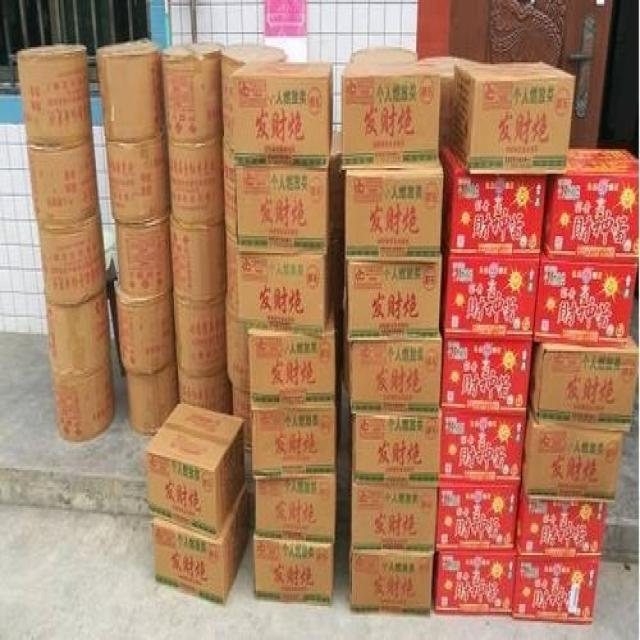box: (449, 60, 576, 176), (146, 402, 246, 540), (439, 143, 548, 259), (151, 487, 251, 606), (527, 328, 639, 434), (543, 149, 639, 264), (233, 62, 334, 168), (340, 62, 440, 168), (534, 245, 637, 347), (344, 160, 444, 264), (234, 151, 334, 253), (236, 232, 334, 336), (247, 298, 338, 410), (440, 242, 539, 342), (521, 408, 622, 502), (344, 262, 440, 342), (347, 340, 442, 419), (440, 338, 534, 417), (438, 413, 527, 491), (351, 415, 440, 487), (351, 481, 438, 551), (512, 555, 600, 623), (515, 493, 607, 557), (252, 536, 335, 606), (250, 410, 335, 478), (349, 549, 435, 615), (435, 489, 521, 553), (433, 551, 516, 617), (257, 476, 335, 542)
